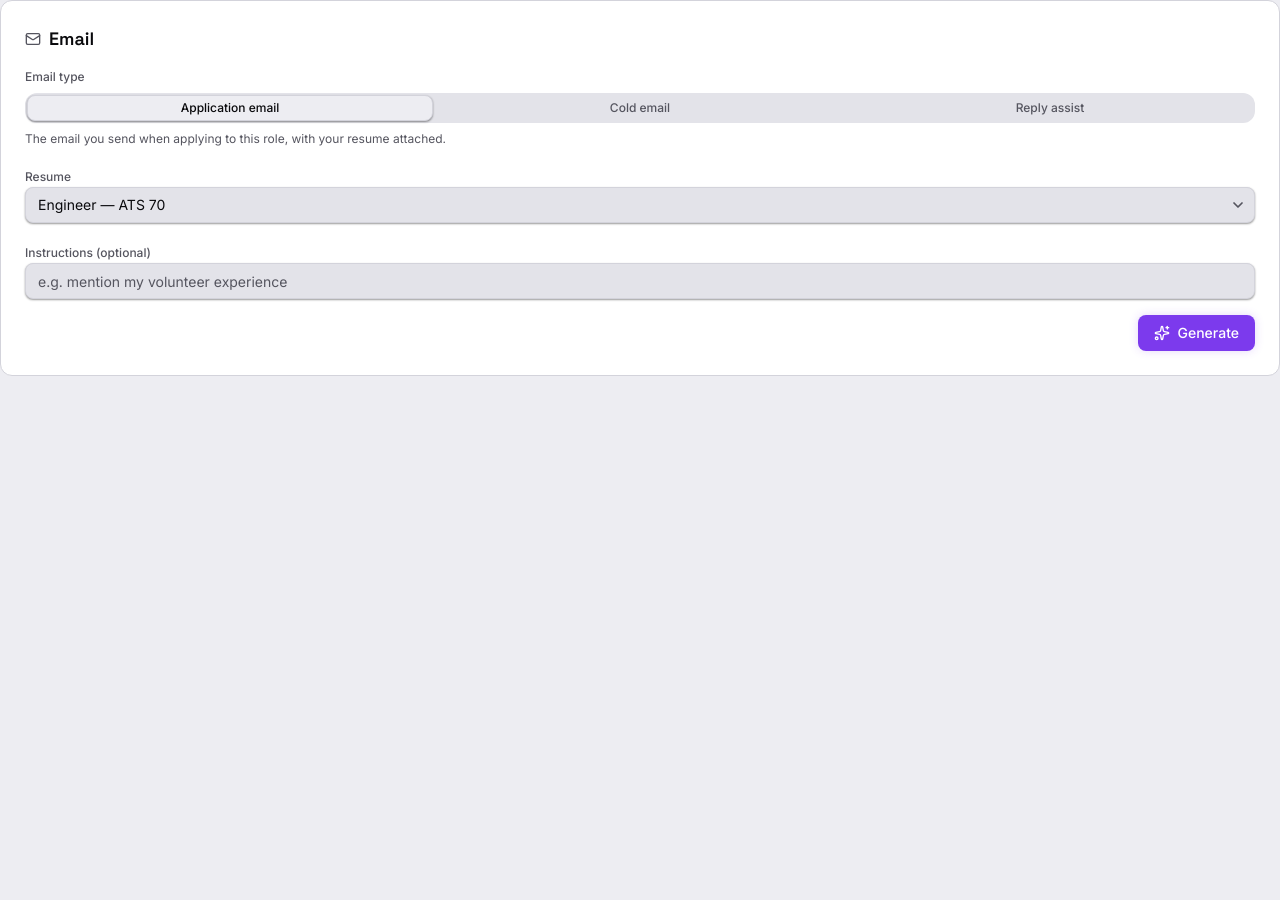
Test: job email panel — the signature notice › shows a wrong_name sign-off finding above the draft
Step 1. Click the button "Generate" → [1196, 333], box [1138,315,1255,351]
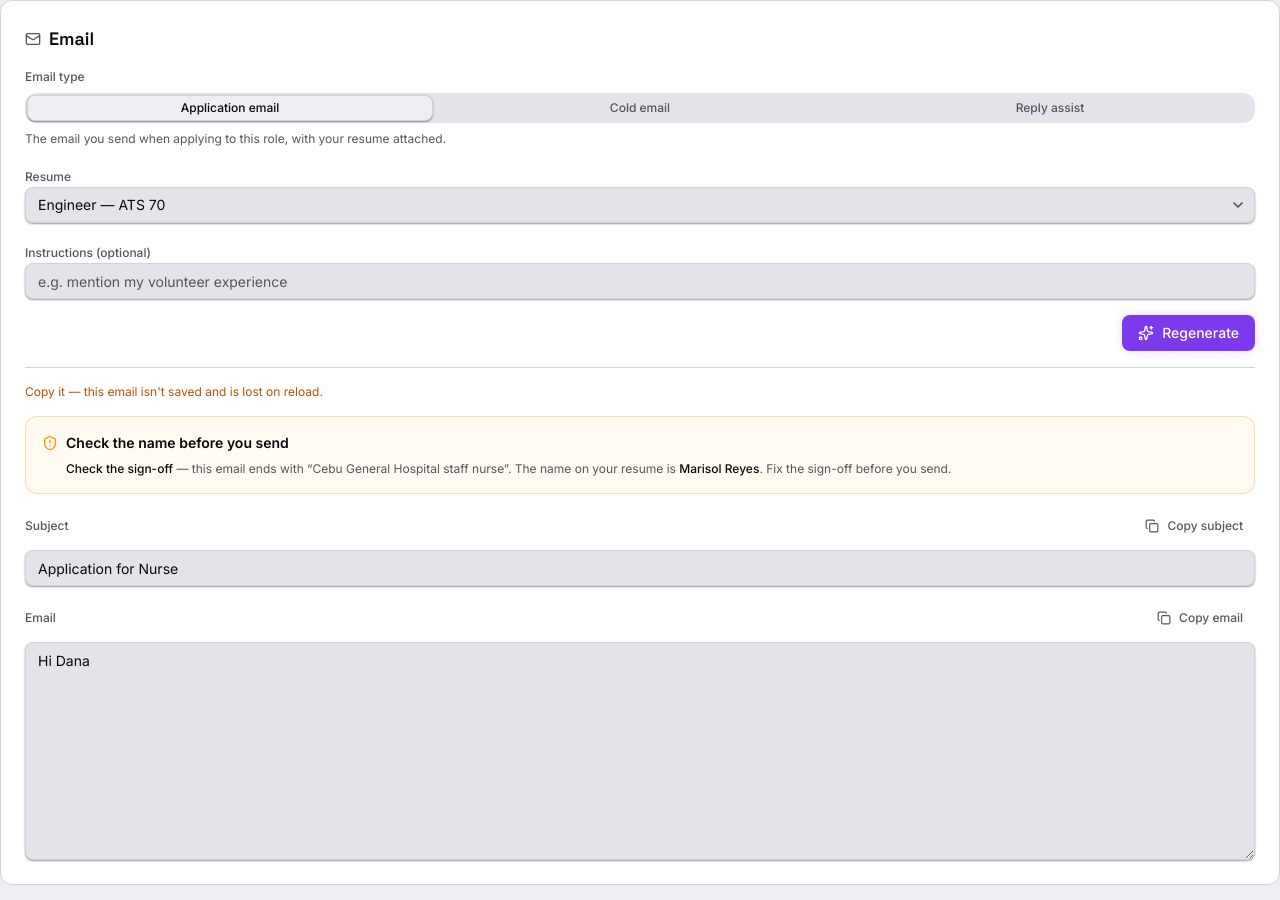
expect the text "Copy it — this email isn't saved and is lost on reload." is shown: met, box [25,384,323,399]
expect the button "Regenerate" is shown: met, box [1122,315,1255,351]
expect the text "Check the name before you send" is shown: met, box [66,434,289,451]
